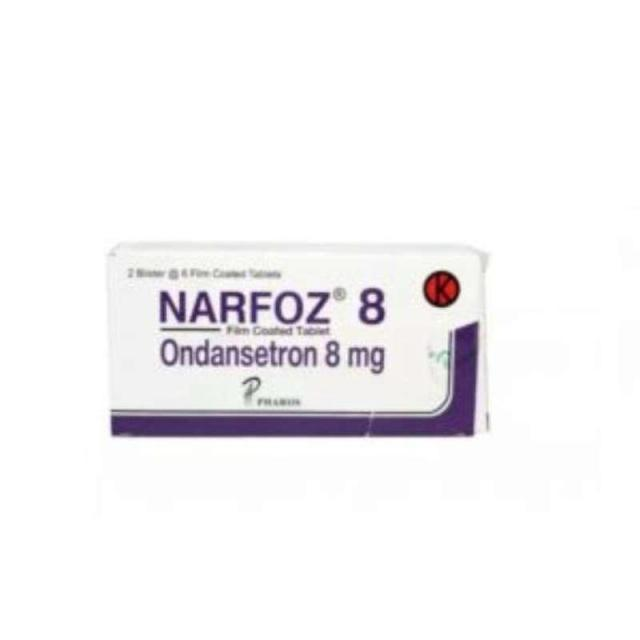drug-name: (153, 281, 383, 327)
